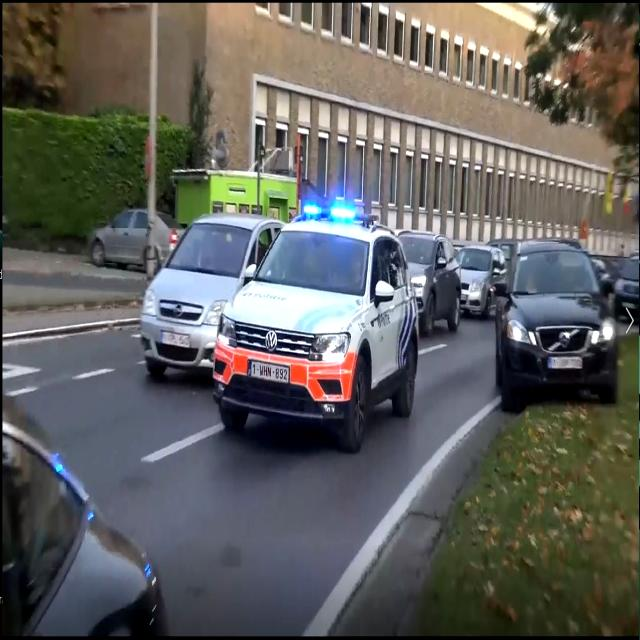emergency: (211, 205, 424, 449)
